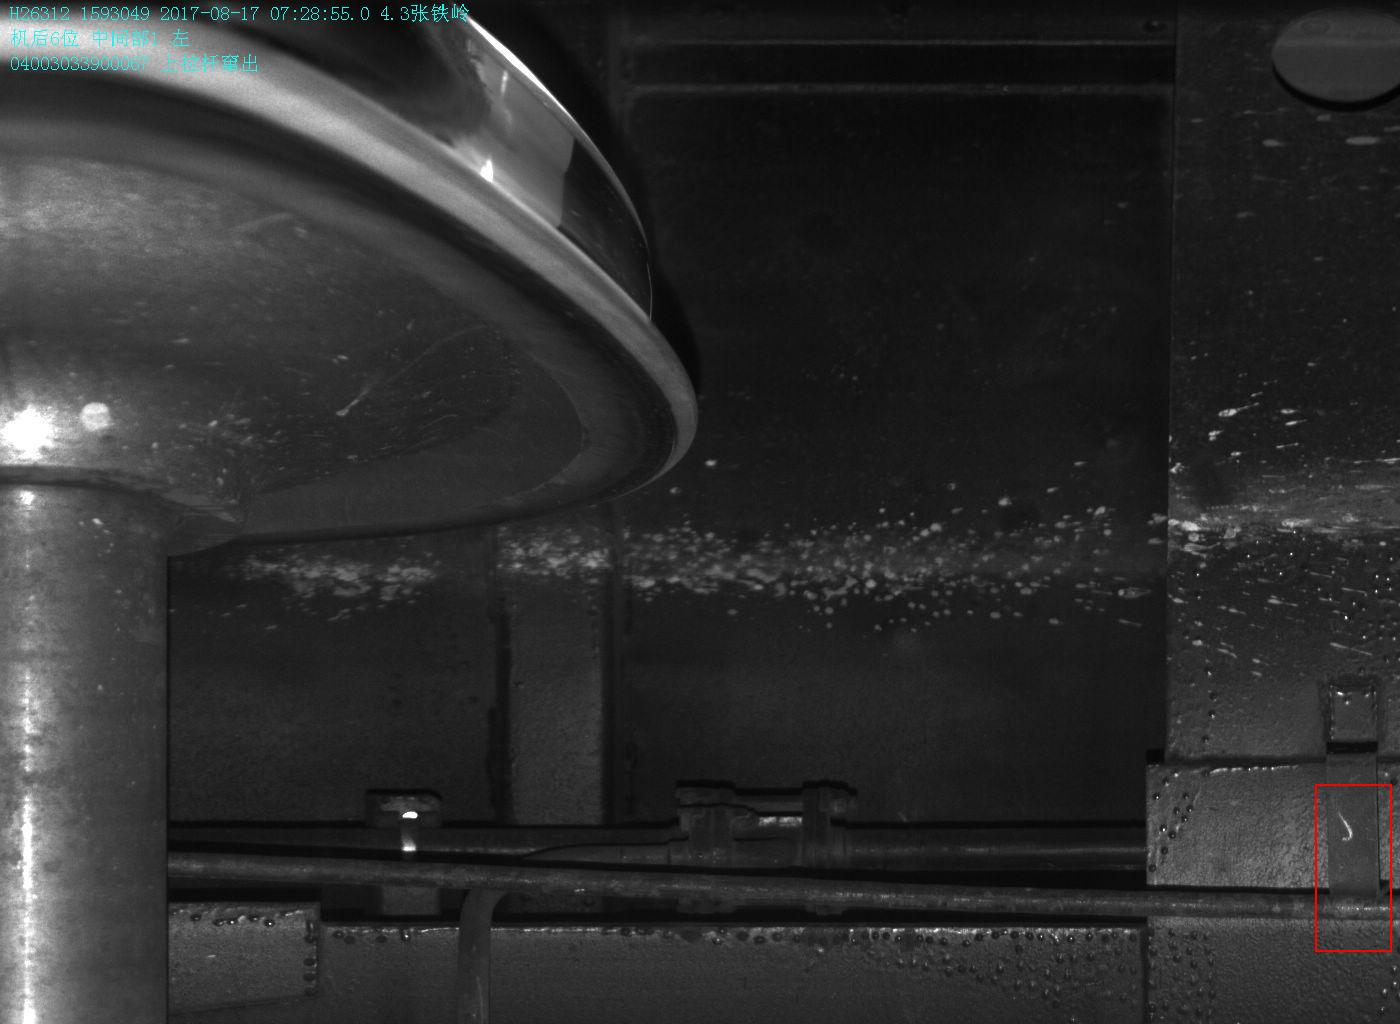Upper lever: (1324, 688, 1382, 922)
